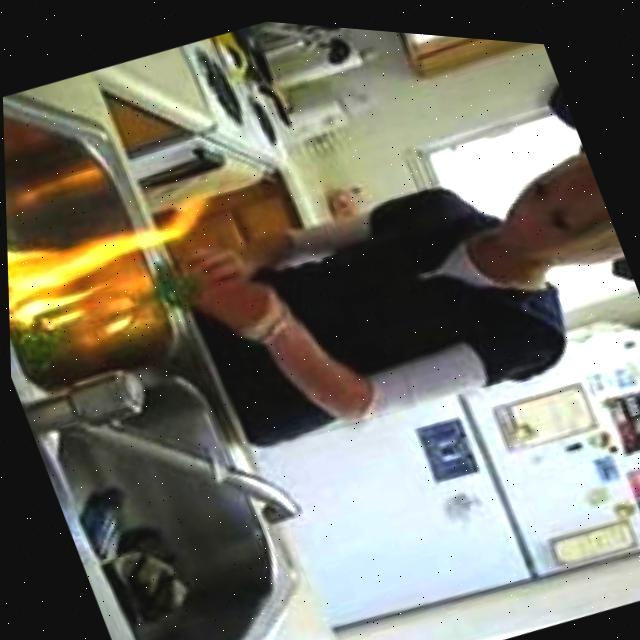Fire: (4, 182, 203, 348)
